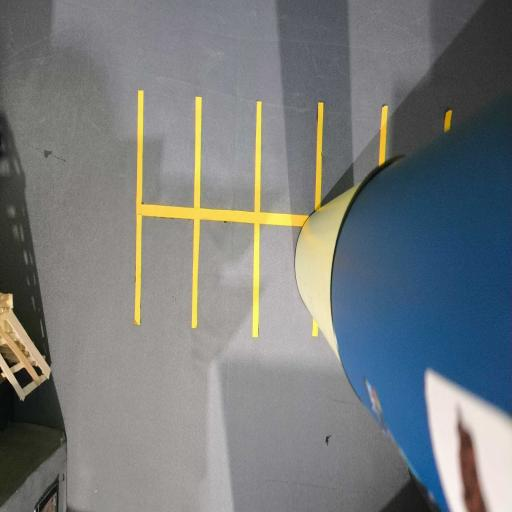toy_car: (0, 0, 509, 511)
